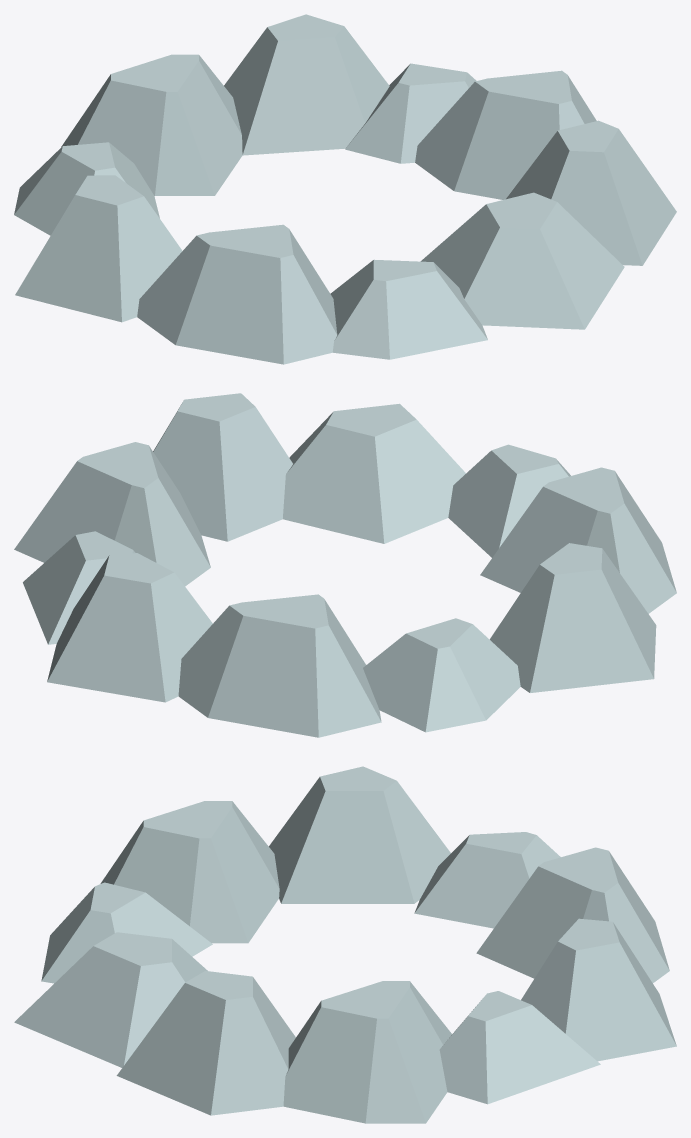
File: kenney-nature-campfire_stones.glb
The picture shows the model from 3 angles, top to bottom: view 1: azimuth 30°, elevation 25°; view 2: azimuth 150°, elevation 25°; view 3: azimuth 270°, elevation 25°; orthographic projection. The views are drawn at different scales.
Parts seen in each view (by area): view 1: campfire_stones; view 2: campfire_stones; view 3: campfire_stones.
Part boxes in pixels (bbox=[...]): campfire_stones: bbox=[14, 14, 676, 364]; campfire_stones: bbox=[14, 393, 676, 737]; campfire_stones: bbox=[14, 766, 676, 1123].
Bounding box in the file's own units: 0.5408 × 0.0778 × 0.5155.
